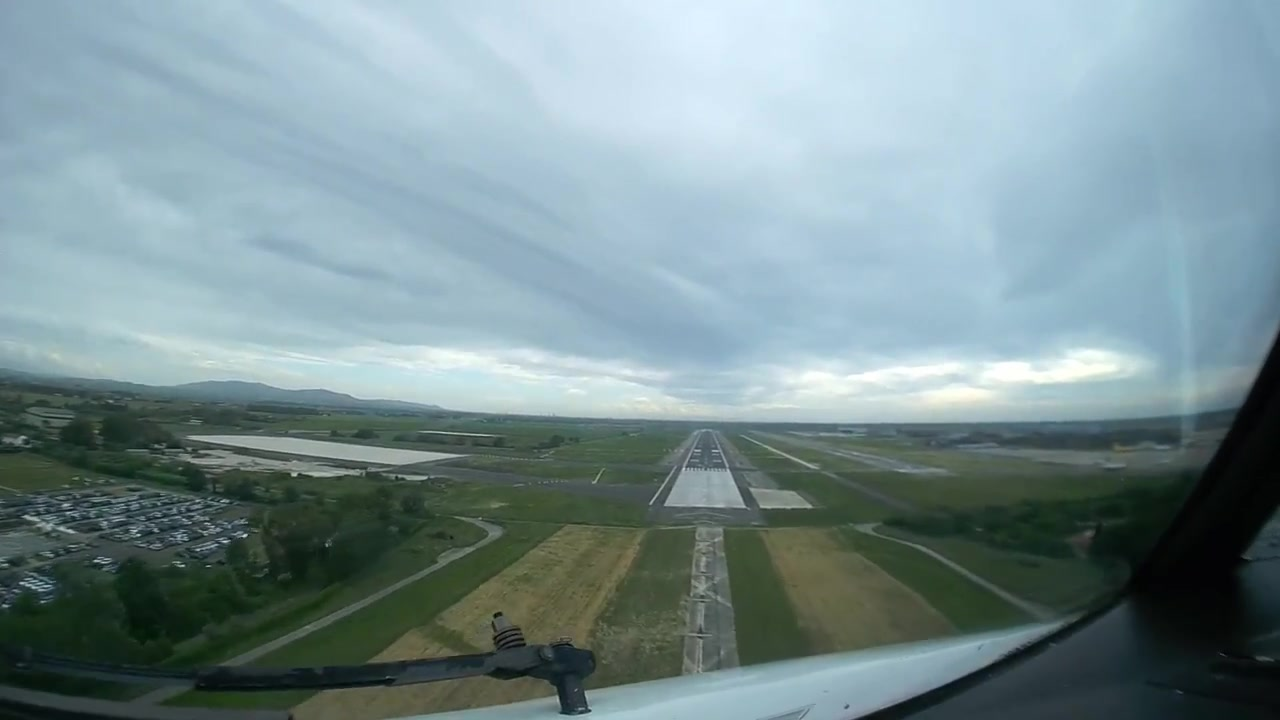runway: (682, 429, 734, 477)
